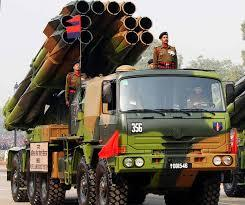MIL_SAM_TEL: (6, 1, 237, 205)
